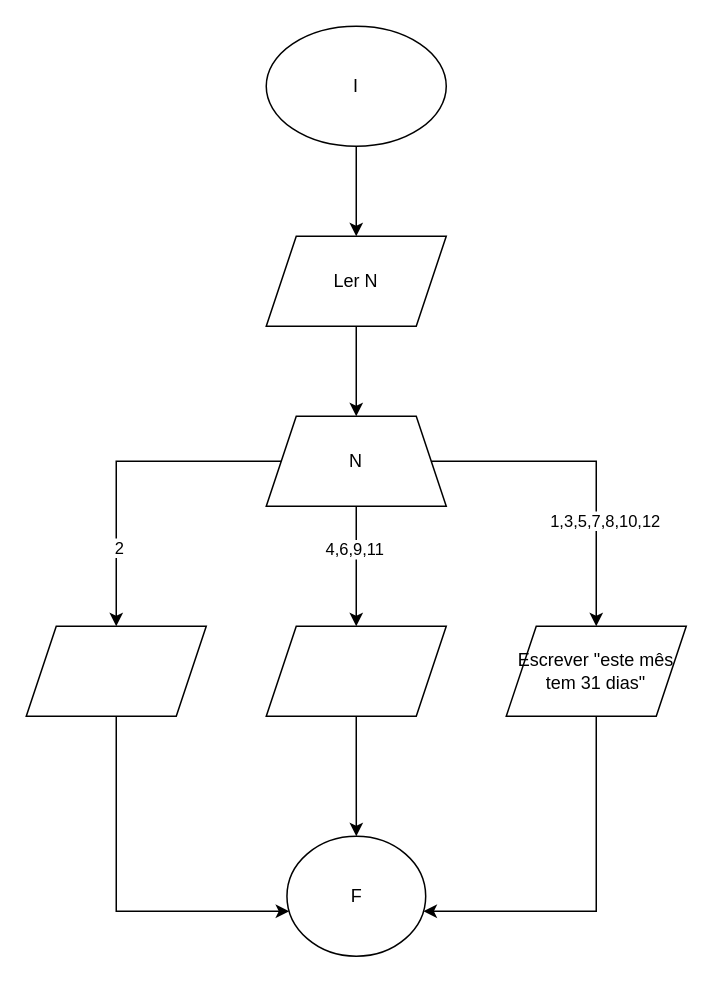
Some shapes in this 713 by 983 pixel diagram are drawn without their labels. Here are the shapes that lost their labels. From the top down, the centre of each, then its label:
(x=115, y=670): Escrever "este mês tem 28 dias"
(x=355, y=670): Escrever "este mês tem 30 dias"
